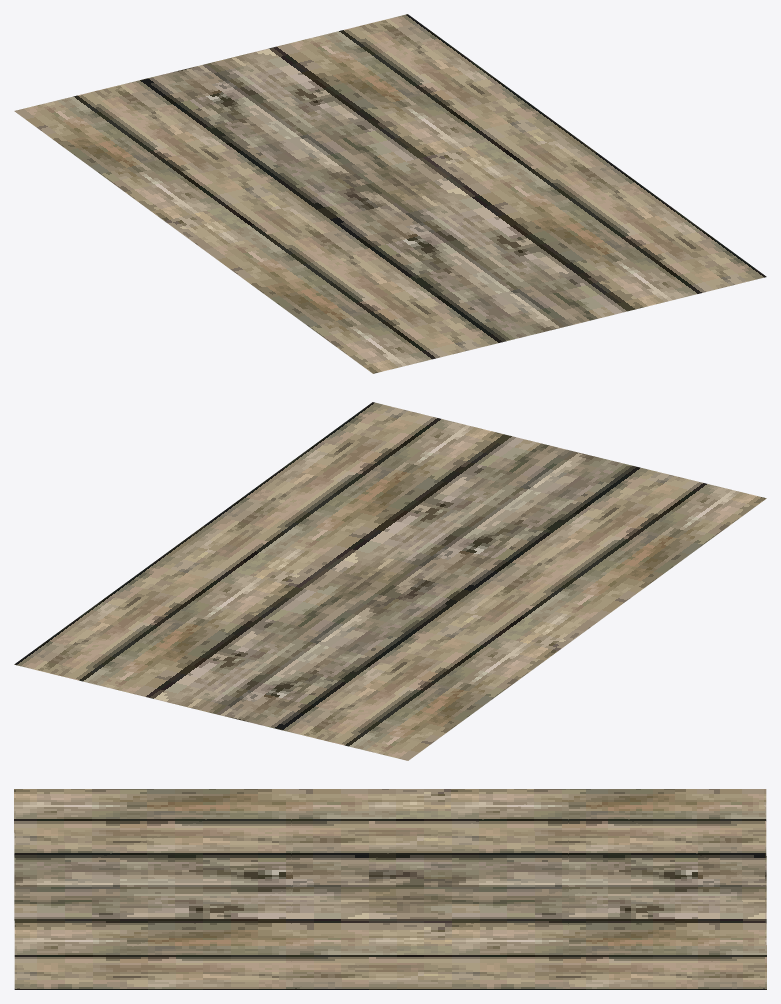
Rendered from LAKETOWN_WAREHOUSE2_PS_WH2_CEILING83837.fbx.
3 views of the same model, one above another, from view 1: azimuth 30°, elevation 25°; view 2: azimuth 150°, elevation 25°; view 3: azimuth 270°, elevation 25° (orthographic). The views are drawn at different scales.
Visible parts, largest first — view 1: LAKETOWN_WAREHOUSE2_PS_WH2_CEILING83837; view 2: LAKETOWN_WAREHOUSE2_PS_WH2_CEILING83837; view 3: LAKETOWN_WAREHOUSE2_PS_WH2_CEILING83837.
Part boxes in pixels (x1,y1,x2,y2): LAKETOWN_WAREHOUSE2_PS_WH2_CEILING83837: (14, 14, 766, 373); LAKETOWN_WAREHOUSE2_PS_WH2_CEILING83837: (14, 402, 766, 760); LAKETOWN_WAREHOUSE2_PS_WH2_CEILING83837: (14, 789, 766, 989).
Size of the model in its own units: 23858 by 29.47 by 37688.
Materials: 1 (1 with a texture image).
